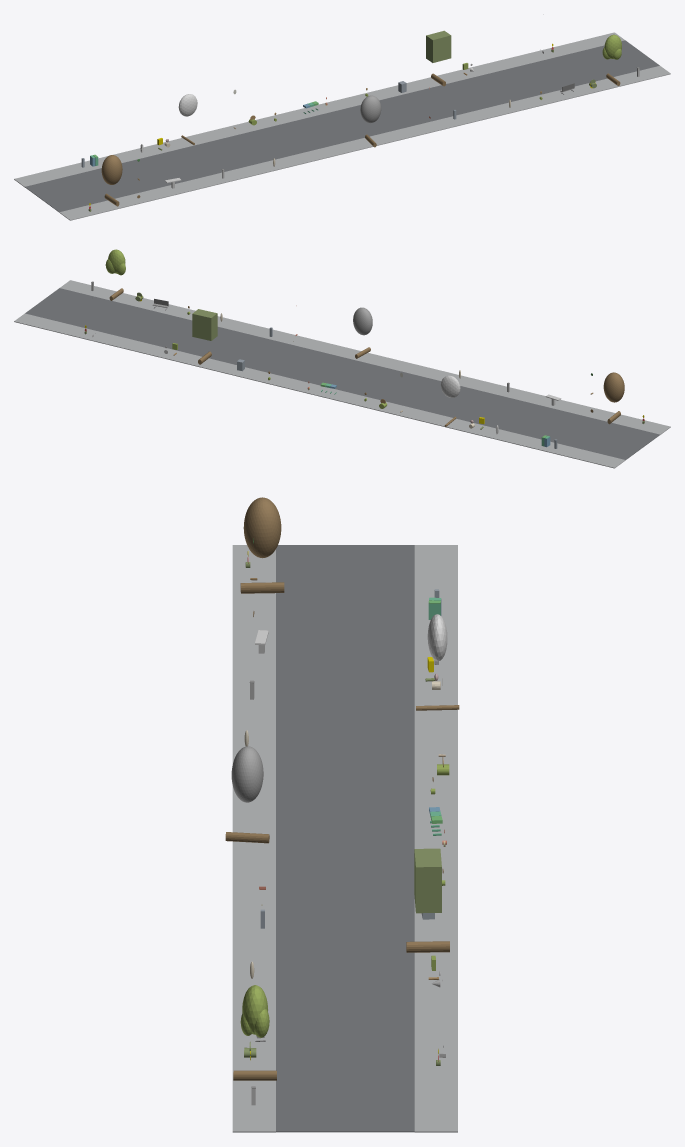
3 views of the same model, one above another, from view 1: azimuth 30°, elevation 25°; view 2: azimuth 150°, elevation 25°; view 3: azimuth 270°, elevation 25° (orthographic). The views are drawn at different scales.
Visible parts, largest first — view 1: road_slab, sidewalk_left, sidewalk_right, inst_0015, inst_0012, inst_0014, inst_0016, inst_0013; view 2: road_slab, sidewalk_right, sidewalk_left, inst_0015, inst_0012, inst_0014, inst_0016, inst_0013; view 3: road_slab, sidewalk_right, sidewalk_left, inst_0012, inst_0015, inst_0014, inst_0016, inst_0013.
Boxes of the visible parts, box(x1,y1,x2,y2) form: road_slab: box(25, 40, 659, 212); sidewalk_left: box(59, 66, 670, 220); sidewalk_right: box(14, 32, 624, 187); inst_0015: box(426, 30, 451, 86); inst_0012: box(101, 155, 122, 206); inst_0014: box(360, 95, 381, 147); inst_0016: box(602, 34, 621, 85); inst_0013: box(178, 94, 197, 144); road_slab: box(25, 288, 659, 460); sidewalk_right: box(14, 313, 625, 468); sidewalk_left: box(60, 280, 670, 434); inst_0015: box(192, 309, 217, 364); inst_0012: box(603, 372, 624, 424); inst_0014: box(353, 307, 372, 358); inst_0016: box(105, 249, 125, 300); inst_0013: box(440, 375, 460, 426); road_slab: box(276, 545, 414, 1132); sidewalk_right: box(414, 545, 457, 1132); sidewalk_left: box(232, 545, 275, 1132); inst_0012: box(240, 497, 284, 593); inst_0015: box(406, 848, 449, 952); inst_0014: box(225, 746, 269, 843); inst_0016: box(233, 985, 276, 1080); inst_0013: box(416, 614, 459, 710).
Size of the model in its own units: 80 by 6.08 by 13.48.
